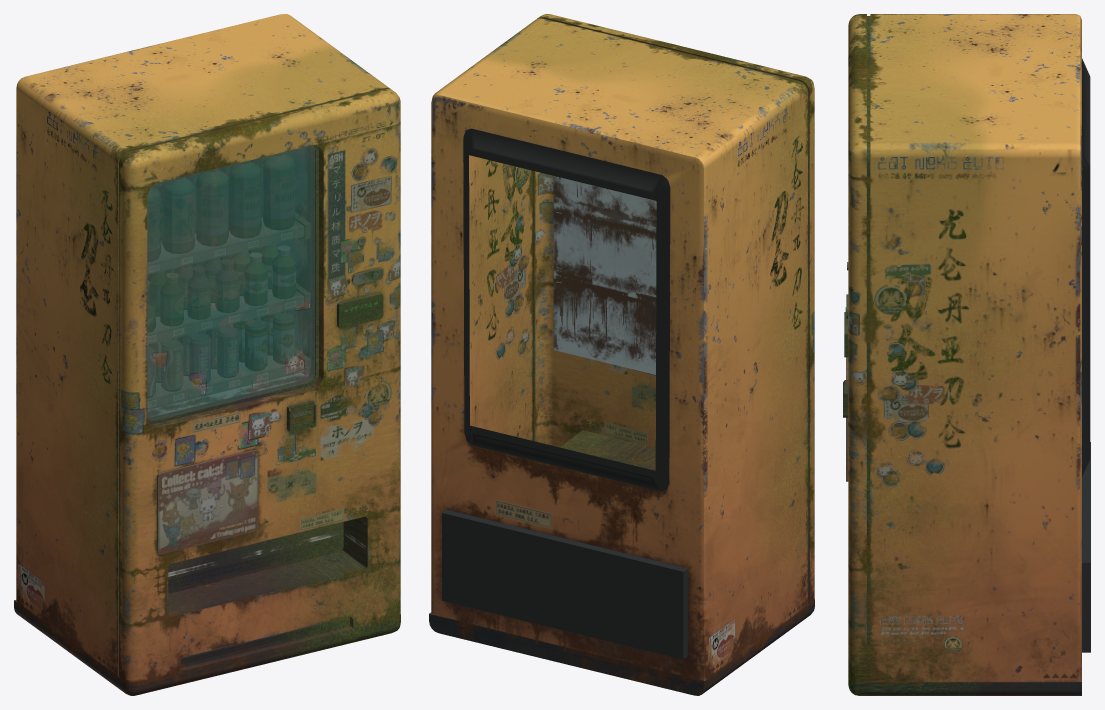
The model's file is Vendingmachine1.fbx.
3 views of the same model, side by side, from view 1: azimuth 30°, elevation 25°; view 2: azimuth 150°, elevation 25°; view 3: azimuth 270°, elevation 25° (orthographic). The views are drawn at different scales.
Parts seen in each view (by area): view 1: VendingMachine_01, VendingGlass_01; view 2: VendingMachine_01; view 3: VendingMachine_01.
Part boxes in pixels (x1,y1,x2,y2): VendingMachine_01: (14, 14, 400, 695); VendingGlass_01: (147, 145, 315, 420); VendingMachine_01: (429, 14, 814, 695); VendingMachine_01: (843, 14, 1090, 695).
Bounding box in the file's own units: 95.18 × 178 × 72.47.
